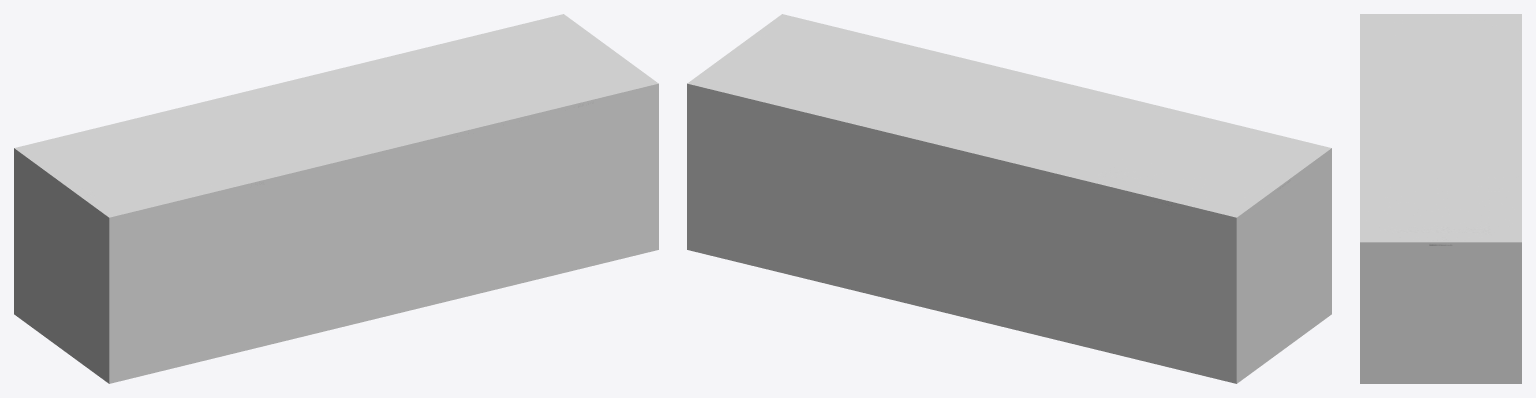
The model's file is UpLu_Checkout_Counter.gltf.
3 views of the same model, side by side, from view 1: azimuth 30°, elevation 25°; view 2: azimuth 150°, elevation 25°; view 3: azimuth 270°, elevation 25° (orthographic). The views are drawn at different scales.
Visible parts, largest first — view 1: UpLu_Checkout_Counter_bcol; view 2: UpLu_Checkout_Counter_bcol; view 3: UpLu_Checkout_Counter_bcol, UpLu_Checkout_Counter.001.
Boxes of the visible parts, bbox=[...] form: UpLu_Checkout_Counter_bcol: bbox=[14, 14, 658, 383]; UpLu_Checkout_Counter_bcol: bbox=[687, 14, 1331, 383]; UpLu_Checkout_Counter_bcol: bbox=[1360, 14, 1521, 383]; UpLu_Checkout_Counter.001: bbox=[1372, 15, 1519, 245].
Bounding box in the file's own units: 3.87 × 1.12 × 1.16.
3 materials, 3 textured.
